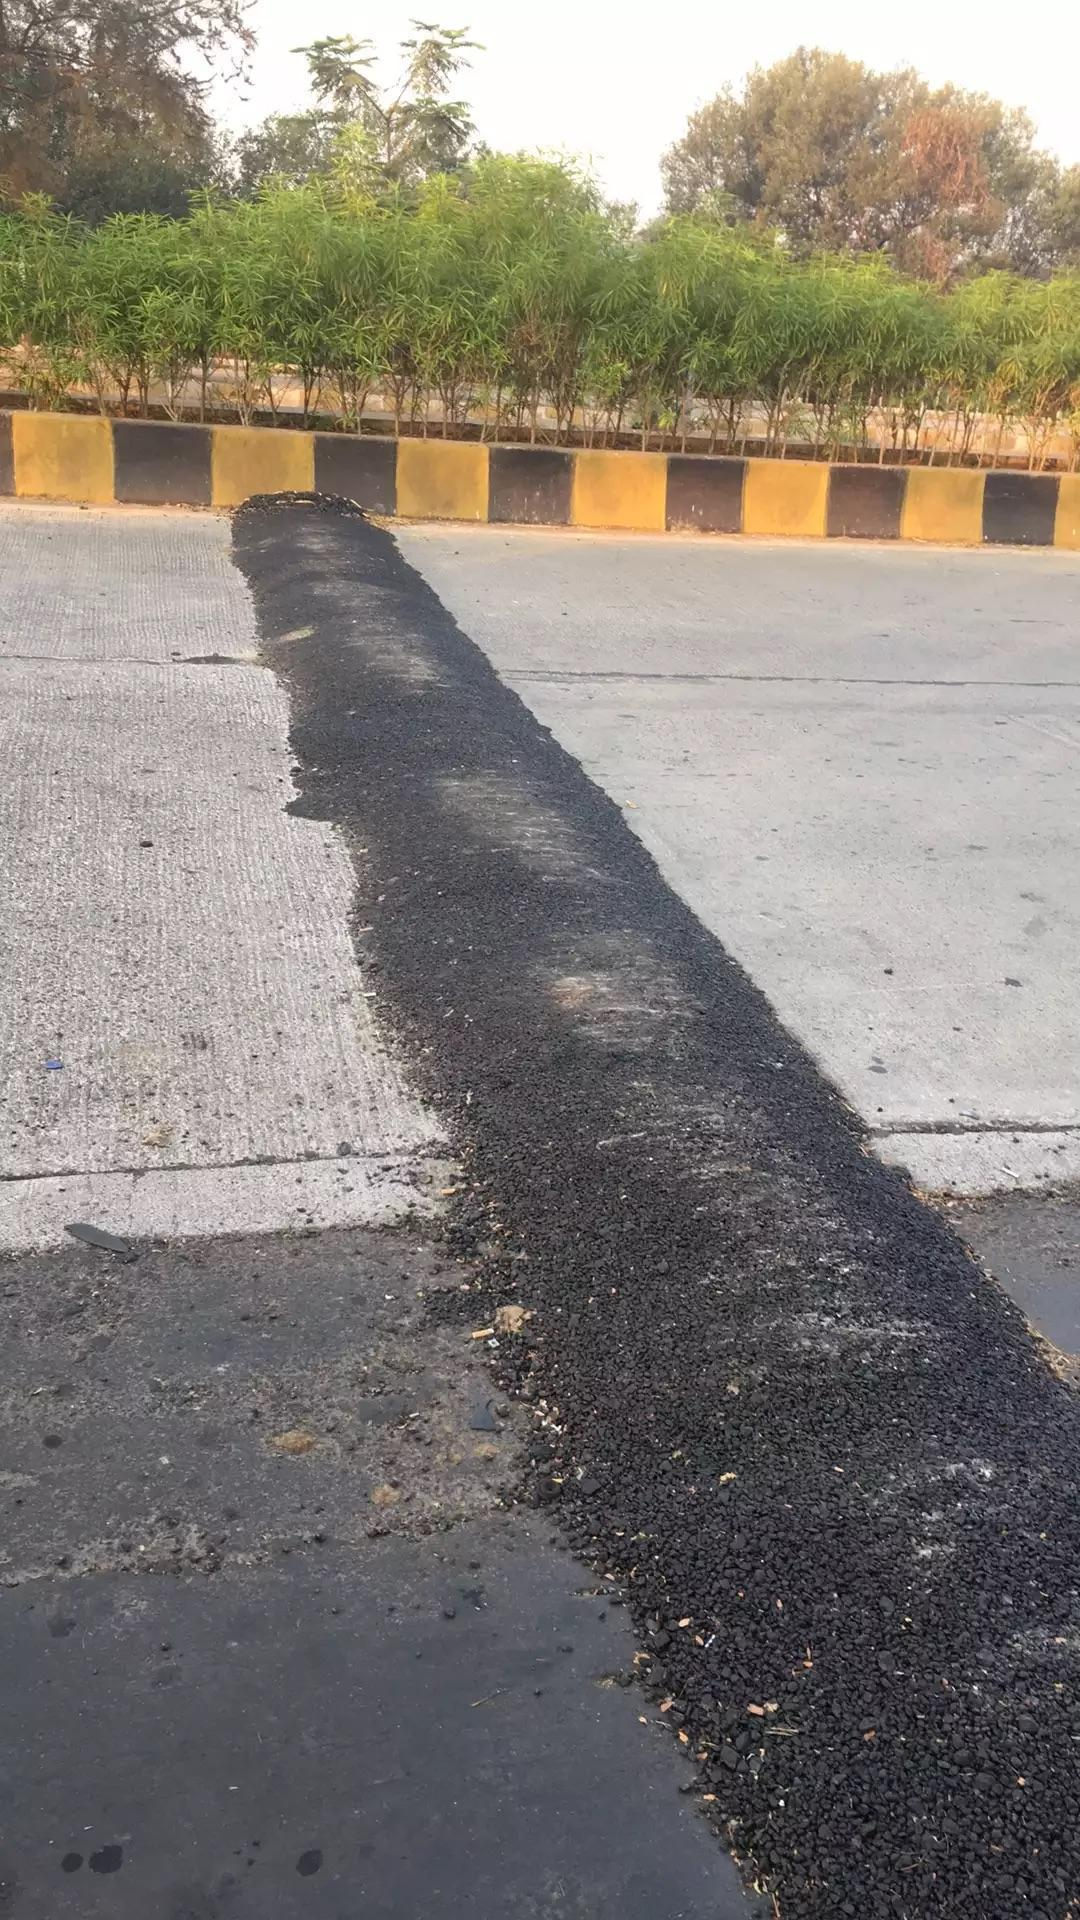speedbreaker: (196, 491, 1080, 1874)
